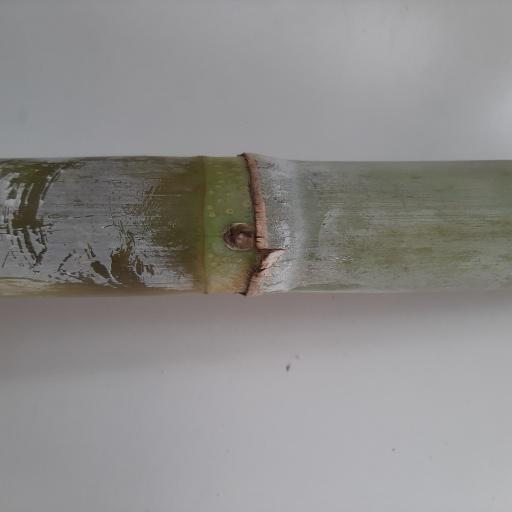Bud: (222, 222, 256, 249)
